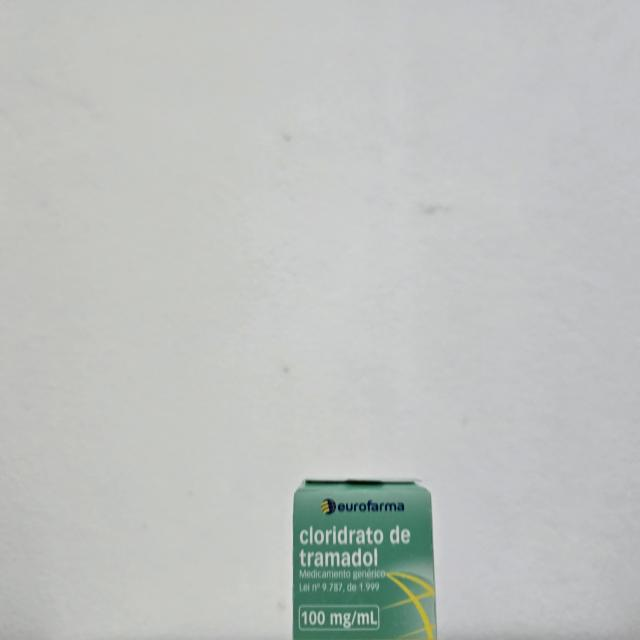tramadol: (290, 474, 442, 640)
